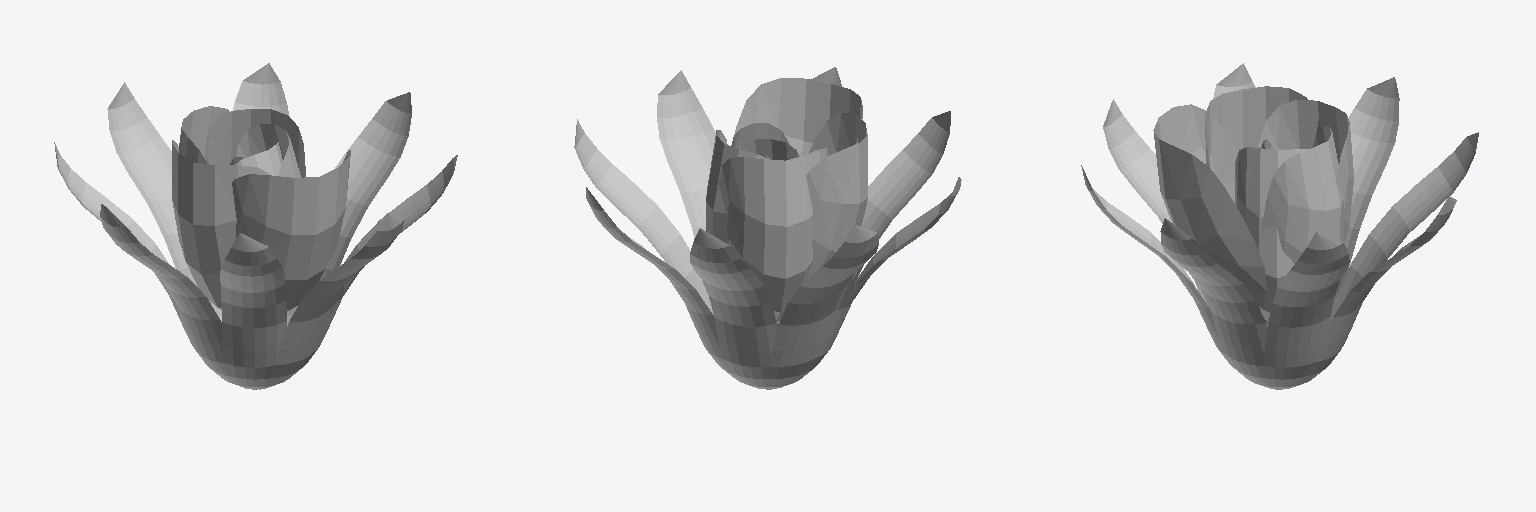
File: FlowerTopModel_03_seq_0023.obj
3 views of the same model, side by side, from view 1: azimuth 30°, elevation 25°; view 2: azimuth 150°, elevation 25°; view 3: azimuth 270°, elevation 25° (orthographic).
Parts seen in each view (by area): view 1: FlowerTopModel_03; view 2: FlowerTopModel_03; view 3: FlowerTopModel_03.
Boxes of the visible parts, x1=… form: FlowerTopModel_03: x1=54, y1=63, x2=457, y2=389; FlowerTopModel_03: x1=574, y1=67, x2=961, y2=389; FlowerTopModel_03: x1=1081, y1=63, x2=1478, y2=389.
Size of the model in its own units: 502 by 360 by 502.